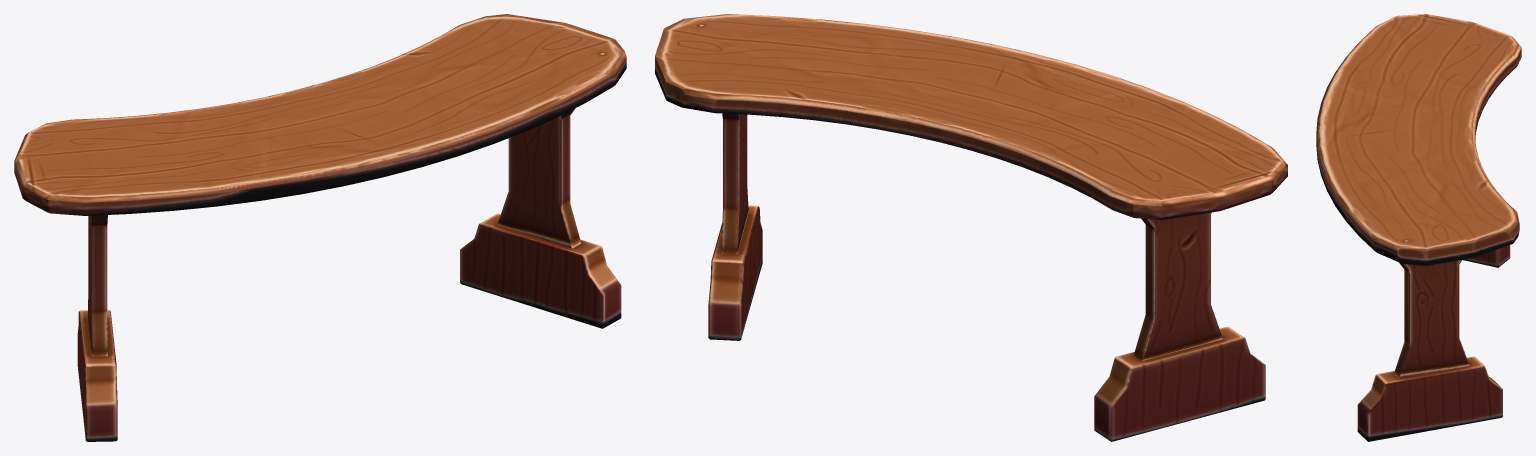
The model's file is table.fbx.
3 views of the same model, side by side, from view 1: azimuth 30°, elevation 25°; view 2: azimuth 150°, elevation 25°; view 3: azimuth 270°, elevation 25° (orthographic). The views are drawn at different scales.
Parts seen in each view (by area): view 1: Mesa_lambert1_0; view 2: Mesa_lambert1_0; view 3: Mesa_lambert1_0.
Boxes of the visible parts, x1=… form: Mesa_lambert1_0: x1=14, y1=14, x2=626, y2=441; Mesa_lambert1_0: x1=655, y1=14, x2=1287, y2=441; Mesa_lambert1_0: x1=1316, y1=14, x2=1521, y2=441.
Size of the model in its own units: 300 by 119 by 109.
Materials: 1 (1 with a texture image).
